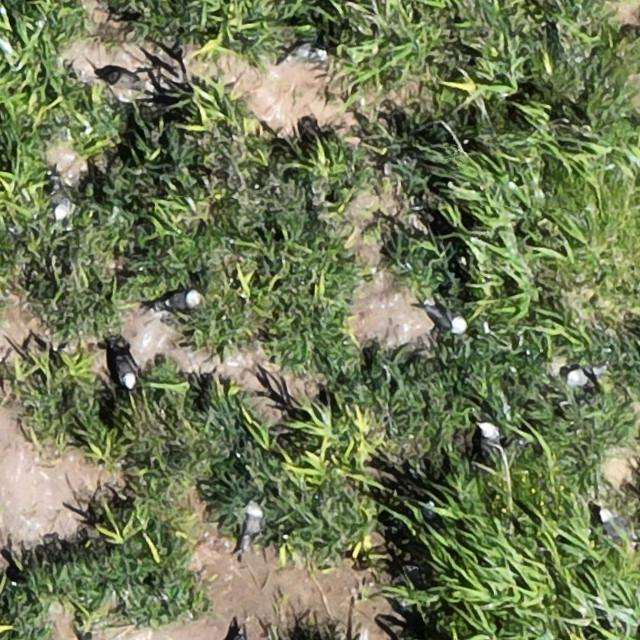umineko: (46, 176, 78, 218), (427, 307, 466, 331), (242, 501, 261, 543), (159, 291, 197, 311), (116, 355, 136, 389), (479, 421, 498, 449)
